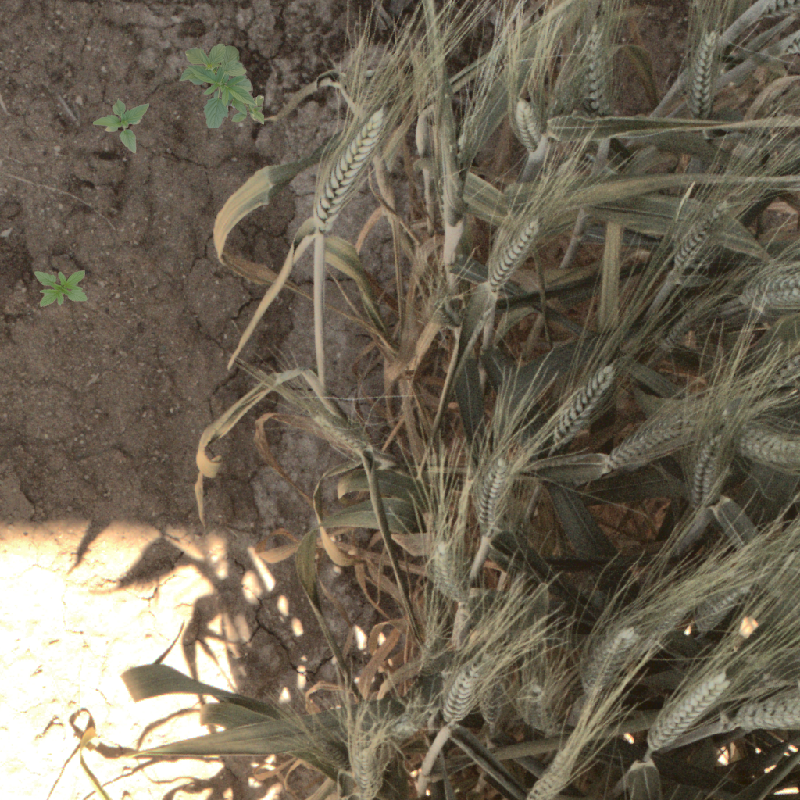spikelet: (310, 110, 384, 230), (645, 667, 731, 753), (548, 361, 618, 445), (668, 196, 733, 274), (603, 413, 683, 473), (578, 621, 637, 694), (484, 215, 542, 287), (519, 737, 581, 799), (431, 134, 469, 233), (736, 259, 800, 317), (686, 27, 724, 114), (576, 25, 614, 112), (734, 422, 800, 472), (732, 687, 799, 734), (692, 579, 750, 632), (415, 21, 450, 107), (475, 454, 511, 536), (688, 432, 724, 509), (441, 660, 483, 725), (344, 726, 380, 799), (427, 537, 465, 600), (513, 678, 554, 732), (511, 96, 544, 156)
weed: (179, 43, 264, 128), (93, 98, 149, 153), (34, 270, 88, 307)
